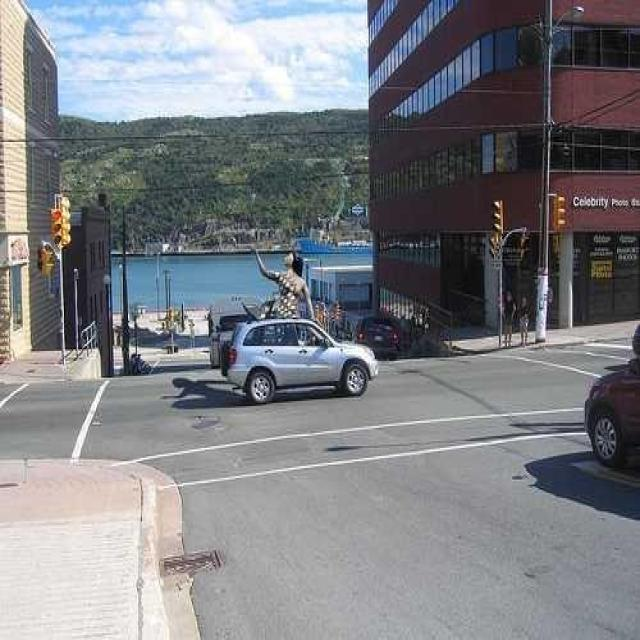Traffic Light -Red-: (50, 206, 64, 251)
